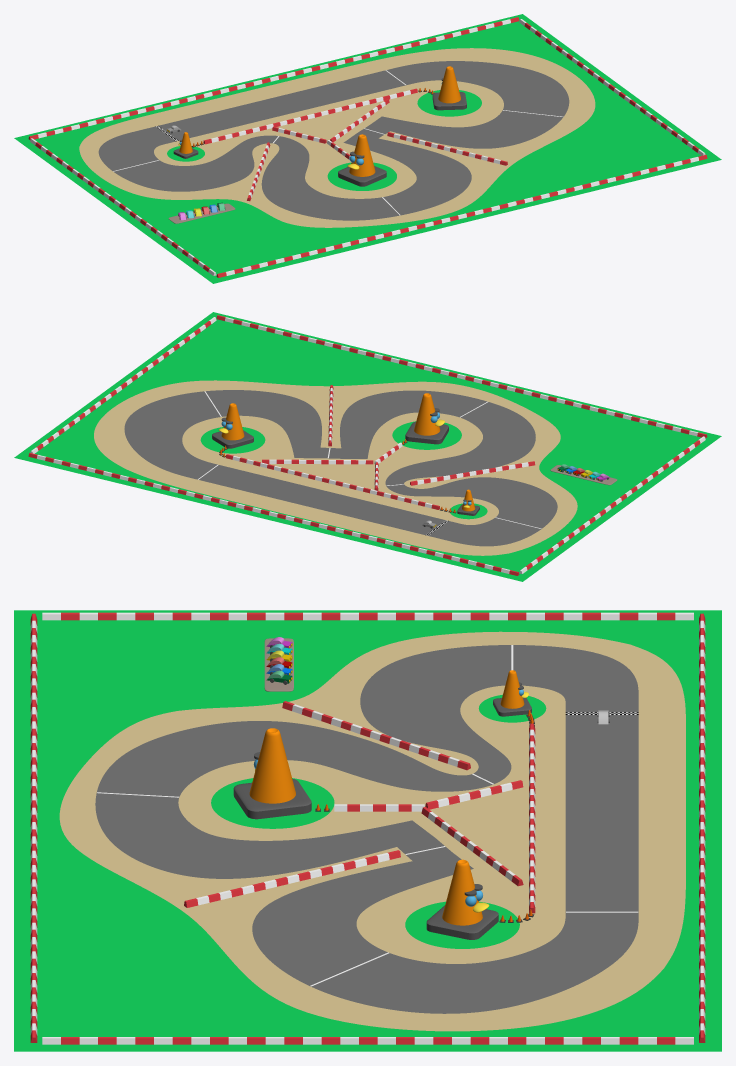
Rendered from Track2.fbx.
3 renders of one model, top to bottom at view 1: azimuth 30°, elevation 25°; view 2: azimuth 150°, elevation 25°; view 3: azimuth 270°, elevation 25°, orthographic. The views are drawn at different scales.
Visible parts, largest first — view 1: Grass, Road, Gravel, Barrier.004, Barrier.003, BigCone2, Barrier.005, Barrier.002, Barrier.001, BigCone3, GrassCircle3, GrassCircle1 (+1 smaller); view 2: Grass, Road, Gravel, Barrier.003, Barrier.004, BigCone2, Barrier.005, Barrier.002, Barrier.001, BigCone3, GrassCircle3, GrassCircle1 (+2 smaller); view 3: Grass, Road, Gravel, Barrier.005, Barrier.002, BigCone2, Barrier.004, Barrier.003, BigCone3, GrassCircle3, GrassCircle1, Barrier.010 (+7 smaller).
Boxes of the visible parts, x1,y1,x2,y2 form: Grass: [14, 14, 721, 283]; Road: [98, 61, 569, 220]; Gravel: [79, 48, 595, 227]; Barrier.004: [216, 155, 707, 277]; Barrier.003: [28, 17, 519, 140]; BigCone2: [338, 134, 386, 186]; Barrier.005: [30, 138, 216, 275]; Barrier.002: [519, 19, 705, 155]; Barrier.001: [203, 88, 417, 144]; BigCone3: [432, 66, 466, 110]; GrassCircle3: [327, 162, 396, 190]; GrassCircle1: [417, 90, 481, 116]; Grass: [14, 312, 721, 581]; Road: [124, 390, 557, 546]; Gravel: [94, 380, 577, 555]; Barrier.003: [28, 453, 519, 575]; Barrier.004: [216, 315, 707, 438]; BigCone2: [405, 393, 448, 444]; Barrier.005: [519, 436, 705, 573]; Barrier.002: [30, 317, 216, 453]; Barrier.001: [226, 454, 440, 509]; BigCone3: [212, 403, 253, 448]; GrassCircle3: [392, 421, 461, 449]; GrassCircle1: [200, 427, 265, 453]; Grass: [14, 610, 721, 1051]; Road: [95, 645, 638, 1013]; Gravel: [59, 631, 685, 1031]; Barrier.005: [42, 612, 693, 620]; Barrier.002: [42, 1037, 693, 1044]; BigCone2: [233, 728, 311, 819]; Barrier.004: [30, 613, 37, 1042]; Barrier.003: [699, 613, 705, 1042]; BigCone3: [426, 859, 498, 939]; GrassCircle3: [211, 778, 334, 828]; GrassCircle1: [405, 901, 519, 948]; Barrier.010: [184, 850, 400, 907].
Bounding box in the file's own units: 262 × 177 × 20.18.
